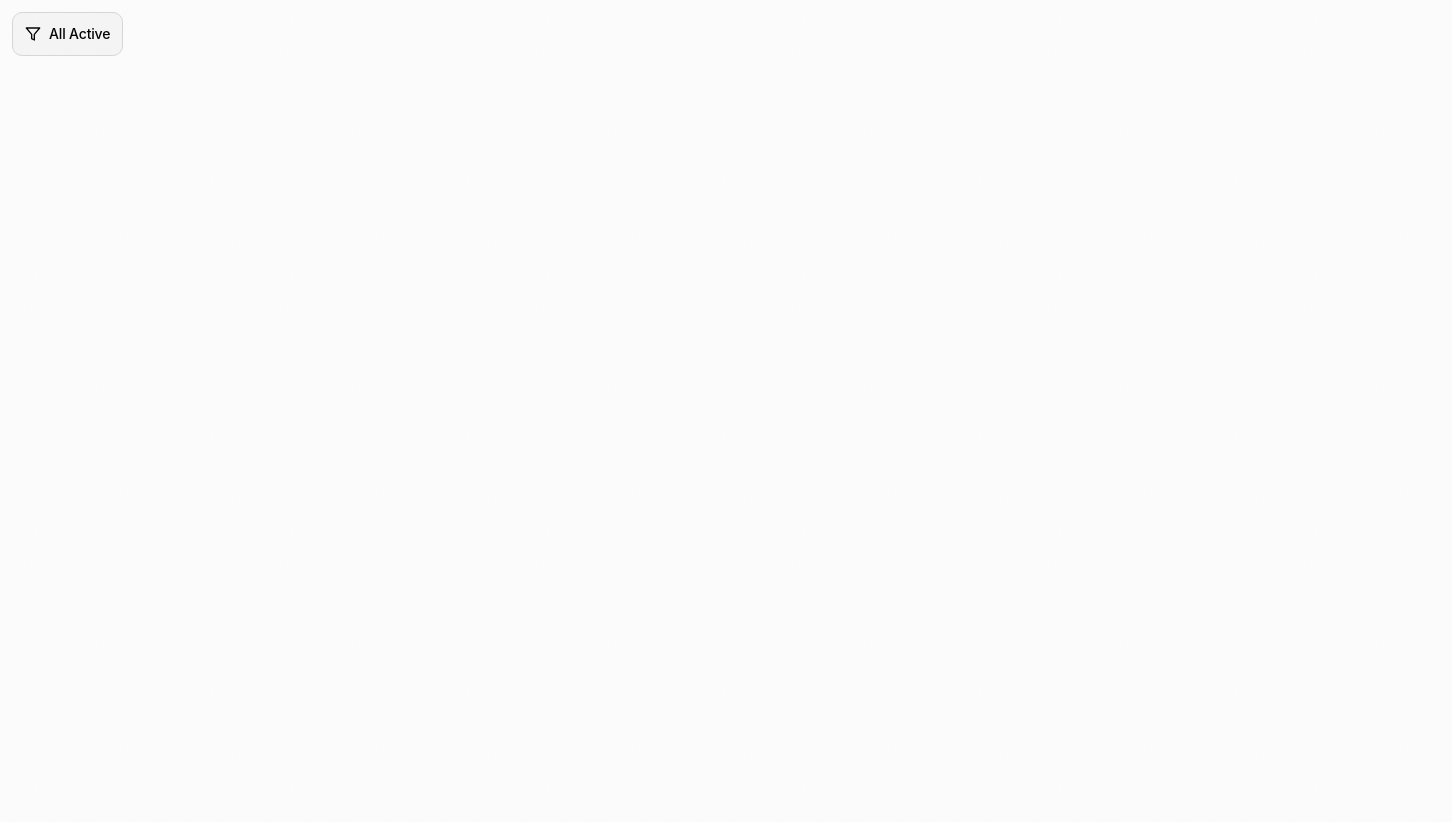
Scenario: MissionFilters status selection (ported tag-select) › selecting a status tag filters results — count badge reflects one active filter
Click the button "All Active" at point(68, 34), box [12,12,123,56]
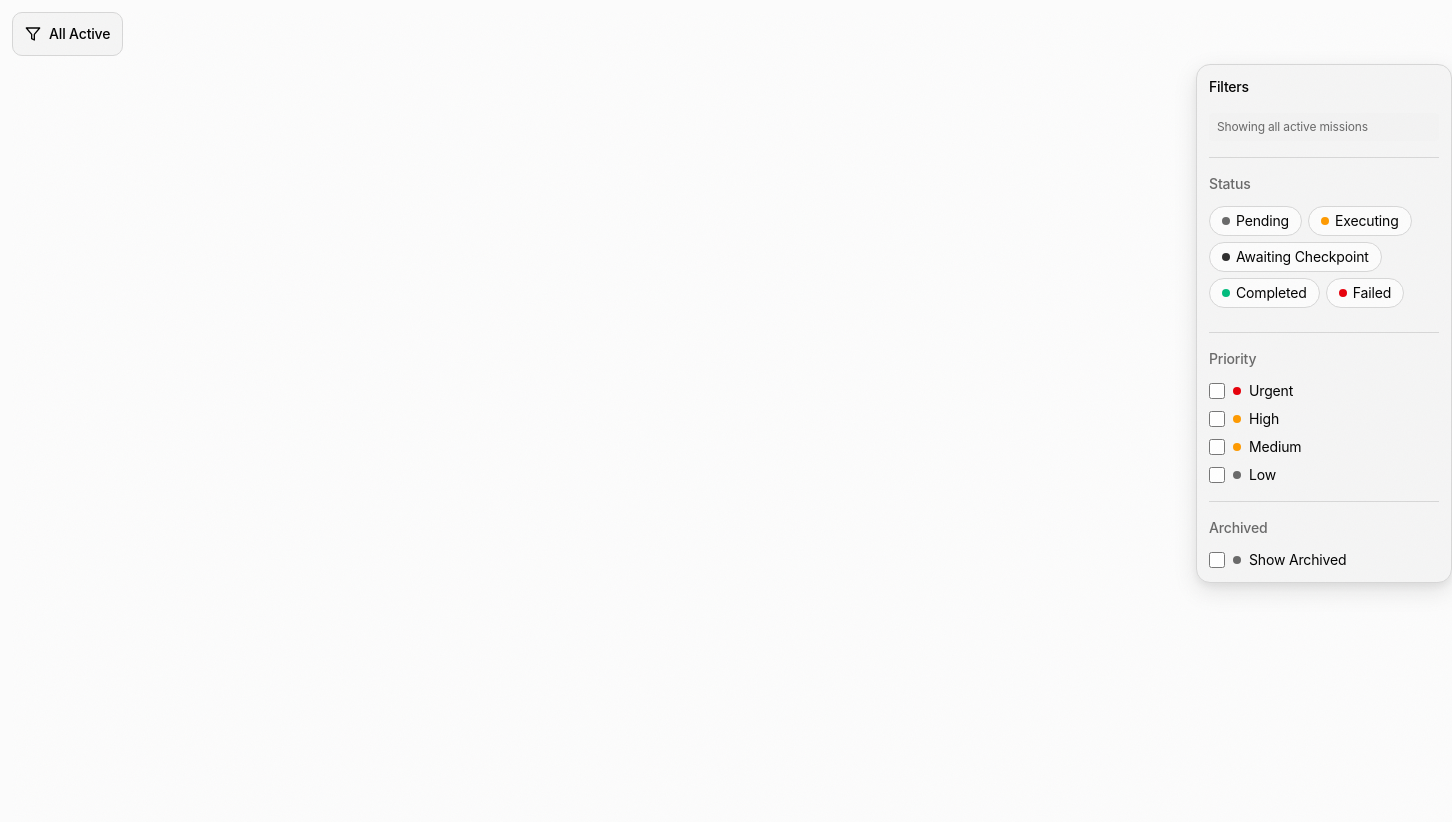
Click the button "Failed" at point(1365, 293), box [1326,278,1404,308]
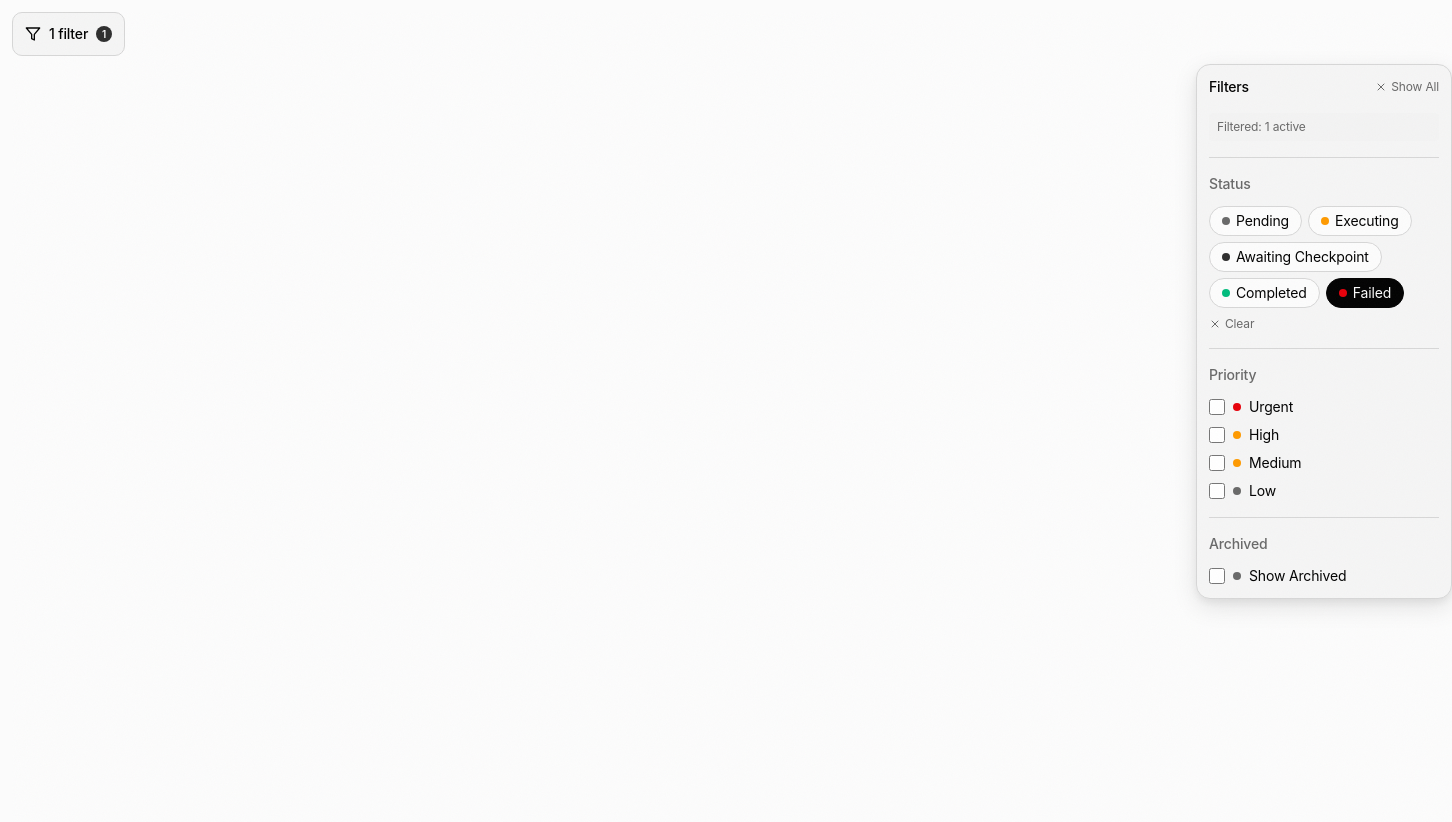
Now the text "1 filter" is shown, box [49,24,88,44]
